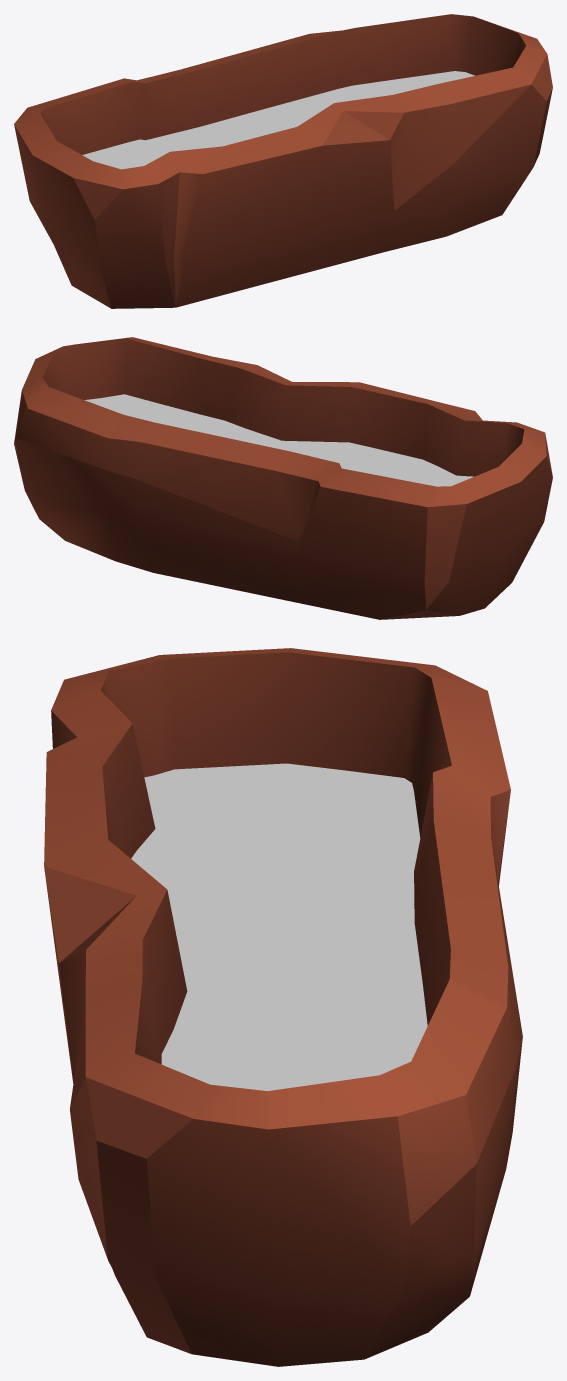
File: Clay_Trough_1A.fbx
3 renders of one model, top to bottom at view 1: azimuth 30°, elevation 25°; view 2: azimuth 150°, elevation 25°; view 3: azimuth 270°, elevation 25°, orthographic. The views are drawn at different scales.
Parts seen in each view (by area): view 1: Clay_Trough_1A; view 2: Clay_Trough_1A; view 3: Clay_Trough_1A.
Boxes of the visible parts, x1,y1,x2,y2 form: Clay_Trough_1A: (14,14,552,308); Clay_Trough_1A: (14,337,552,619); Clay_Trough_1A: (44,648,522,1366).
Size of the model in its own units: 1.88 by 0.5332 by 0.7944.
